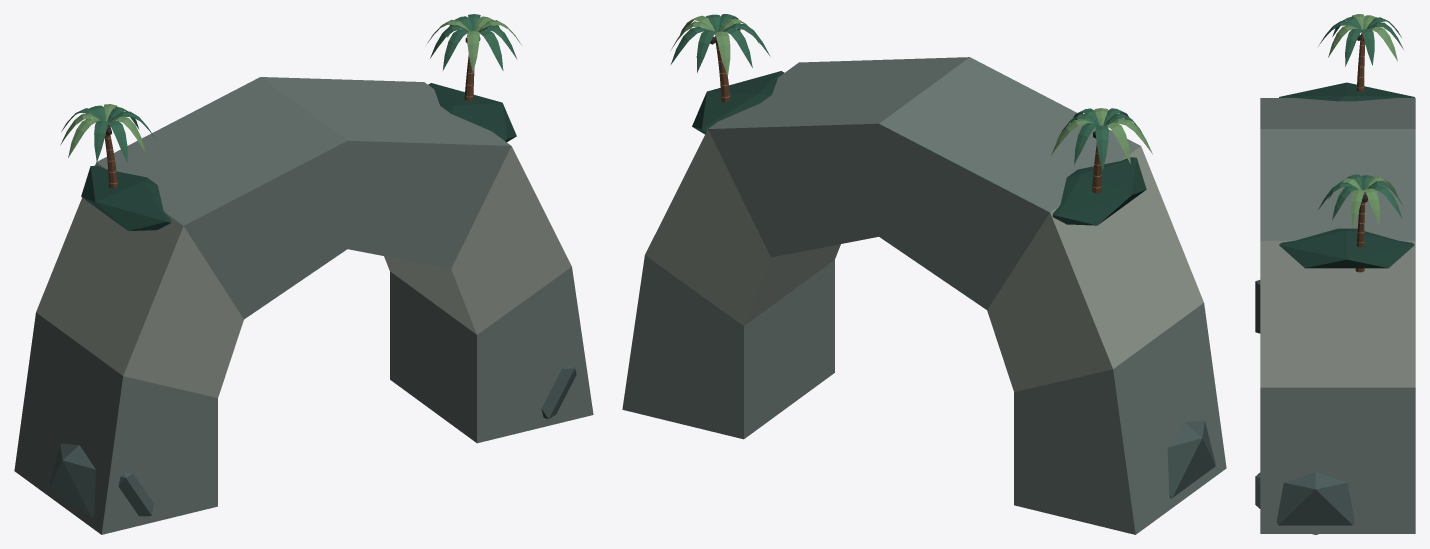
Rendered from PirateCove_SeaStackArch_Showcase.glb.
3 views of the same model, side by side, from view 1: azimuth 30°, elevation 25°; view 2: azimuth 150°, elevation 25°; view 3: azimuth 270°, elevation 25° (orthographic). The views are drawn at different scales.
Visible parts, largest first — view 1: PirateCove_SeaStackArch_Showcase; view 2: PirateCove_SeaStackArch_Showcase; view 3: PirateCove_SeaStackArch_Showcase.
Boxes of the visible parts, bbox=[...] form: PirateCove_SeaStackArch_Showcase: bbox=[14, 14, 593, 534]; PirateCove_SeaStackArch_Showcase: bbox=[622, 14, 1226, 534]; PirateCove_SeaStackArch_Showcase: bbox=[1255, 14, 1415, 534].
Size of the model in its own units: 11.77 by 8.44 by 3.61.
